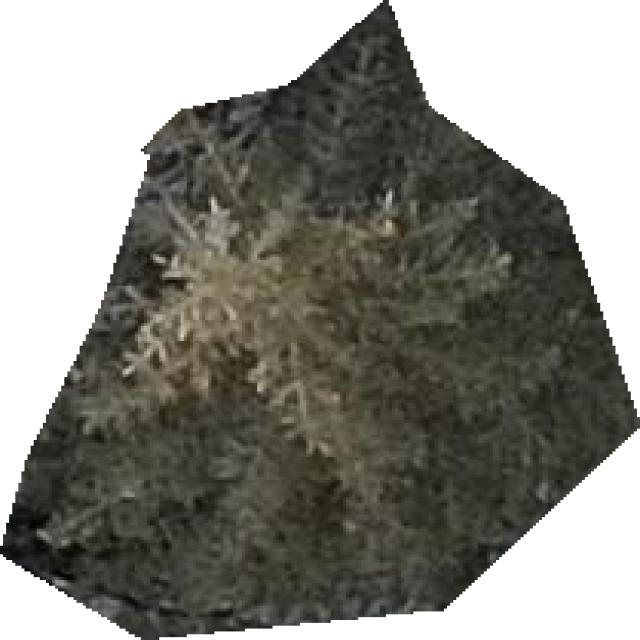spruce: (0, 0, 637, 637)
